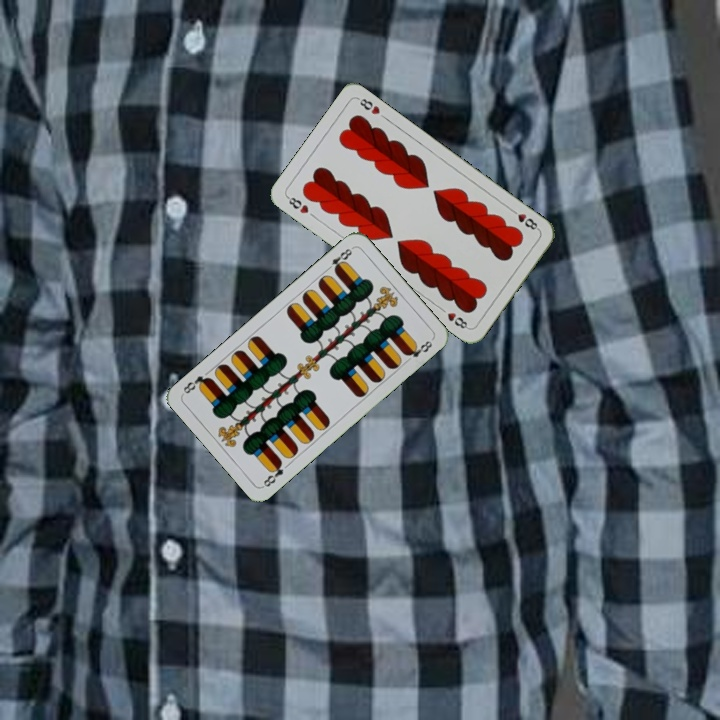E8: (322, 244, 356, 275), (259, 457, 286, 490)
H8: (506, 205, 542, 233), (283, 192, 311, 216)
